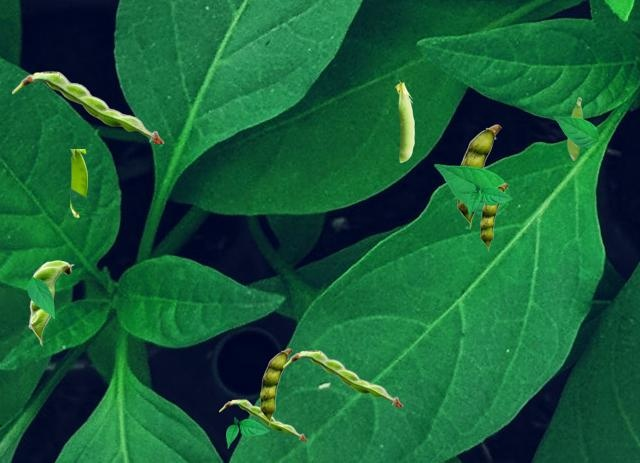pea: (12, 71, 163, 142), (283, 350, 402, 405), (457, 124, 500, 228), (28, 260, 73, 345), (219, 399, 306, 439), (260, 348, 291, 424), (480, 183, 507, 250), (395, 80, 413, 161), (70, 149, 86, 216), (567, 97, 581, 159)
